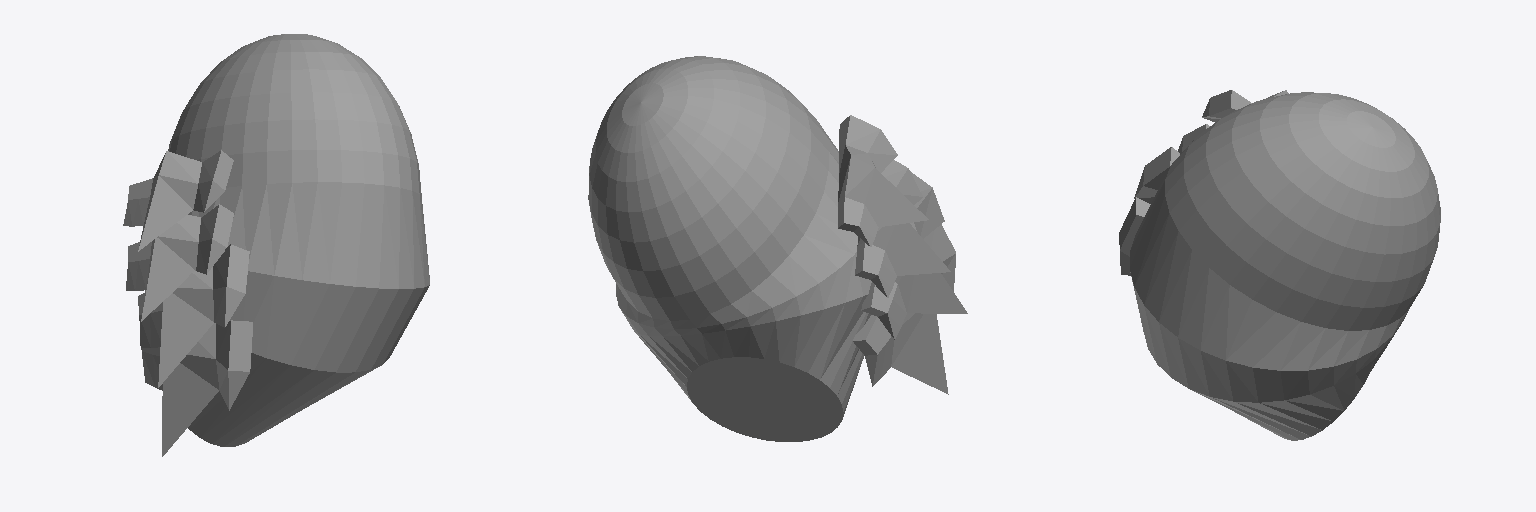
The model's file is RBmomo.obj.
3 views of the same model, side by side, from view 1: azimuth 30°, elevation 25°; view 2: azimuth 150°, elevation 25°; view 3: azimuth 270°, elevation 25° (orthographic).
Visible parts, largest first — view 1: 立方体.018; view 2: 立方体.018; view 3: 立方体.018.
Part boxes in pixels (left/top/right/bottom): 立方体.018: left=123, top=34, right=429, bottom=456; 立方体.018: left=588, top=56, right=967, bottom=441; 立方体.018: left=1119, top=90, right=1440, bottom=440.
Size of the model in its own units: 0.8484 by 0.9998 by 0.7922.